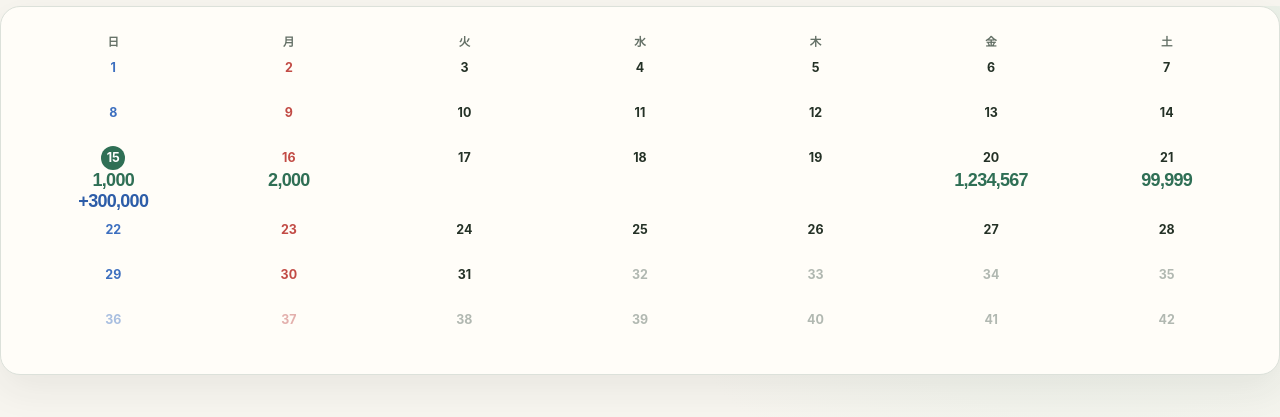
Test case: CalendarDayExplorer › 月間カレンダーを維持したまま日付とURLを即時に切り替える
Click the link named "2026年8月15日、支出￥1,000、収入￥300,000".
click(113, 178)  # box x1=78 y1=146 x2=148 y2=211
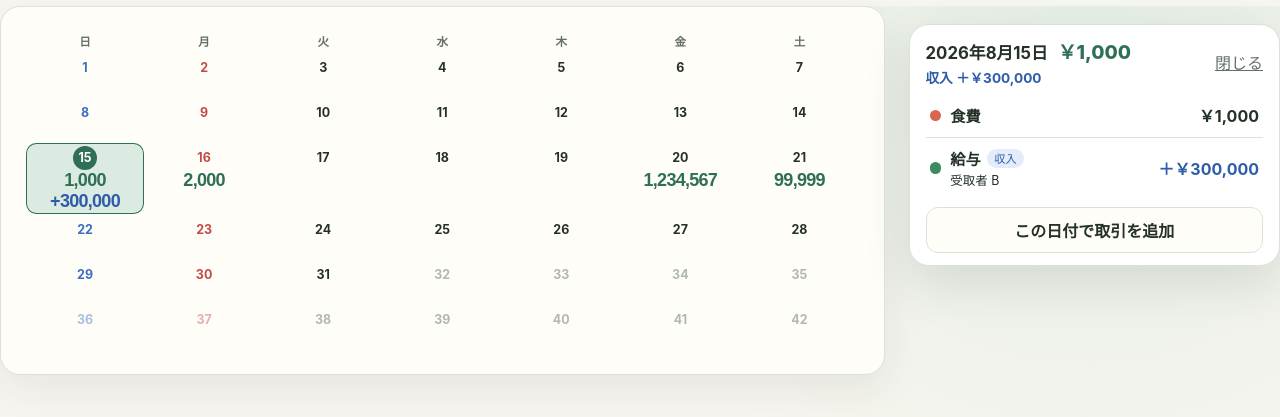
Expected: the heading "2026年8月15日" is shown, x1=926 y1=40 x2=1048 y2=64
Click the link named "2026年8月16日、支出￥2,000".
click(204, 170)  # box x1=183 y1=150 x2=225 y2=190
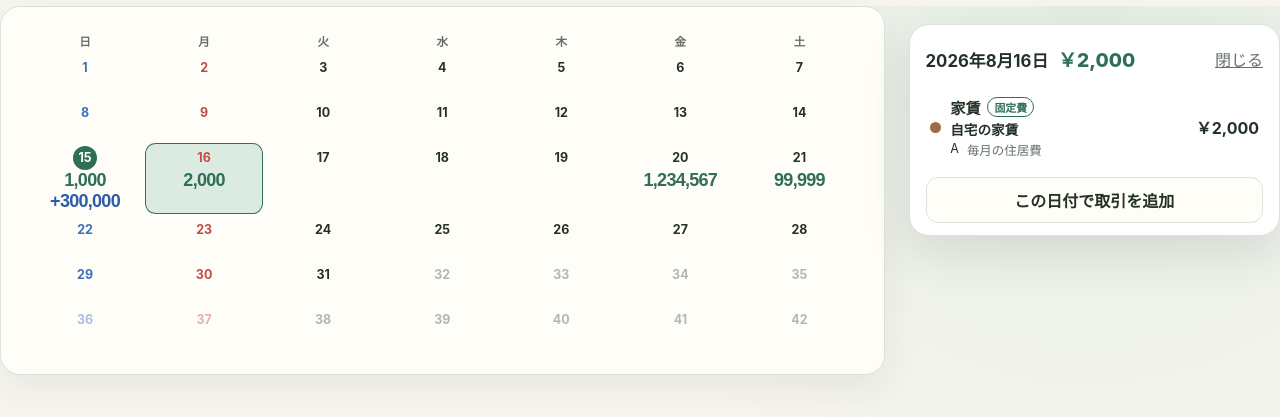
Expected: the heading "2026年8月16日" is shown, x1=926 y1=48 x2=1048 y2=72
